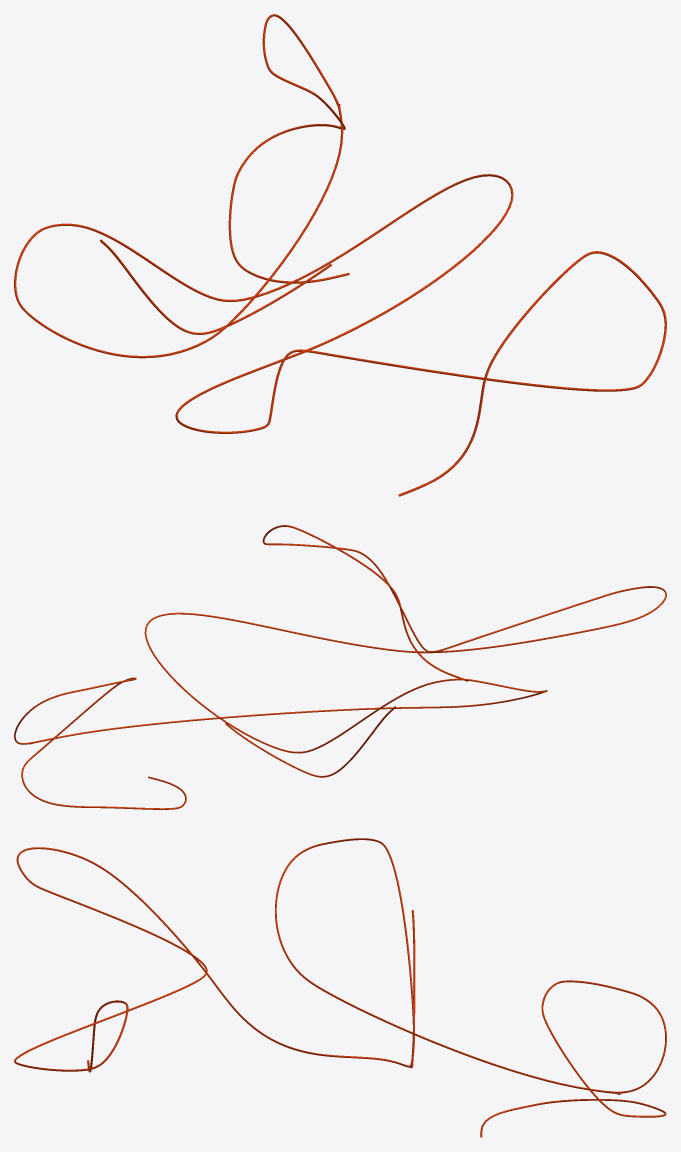
File: Vault_01_Cable_01.fbx
3 views of the same model, one above another, from view 1: azimuth 30°, elevation 25°; view 2: azimuth 150°, elevation 25°; view 3: azimuth 270°, elevation 25° (orthographic). The views are drawn at different scales.
Parts seen in each view (by area): view 1: Cable_01_LOD0; view 2: Cable_01_LOD0; view 3: Cable_01_LOD0.
Boxes of the visible parts, box(x1,y1,x2,y2) form: Cable_01_LOD0: box(14, 14, 666, 496); Cable_01_LOD0: box(14, 525, 666, 809); Cable_01_LOD0: box(14, 838, 666, 1137).
Size of what is drawn, in the model's own units: 920 by 316 by 1250.
